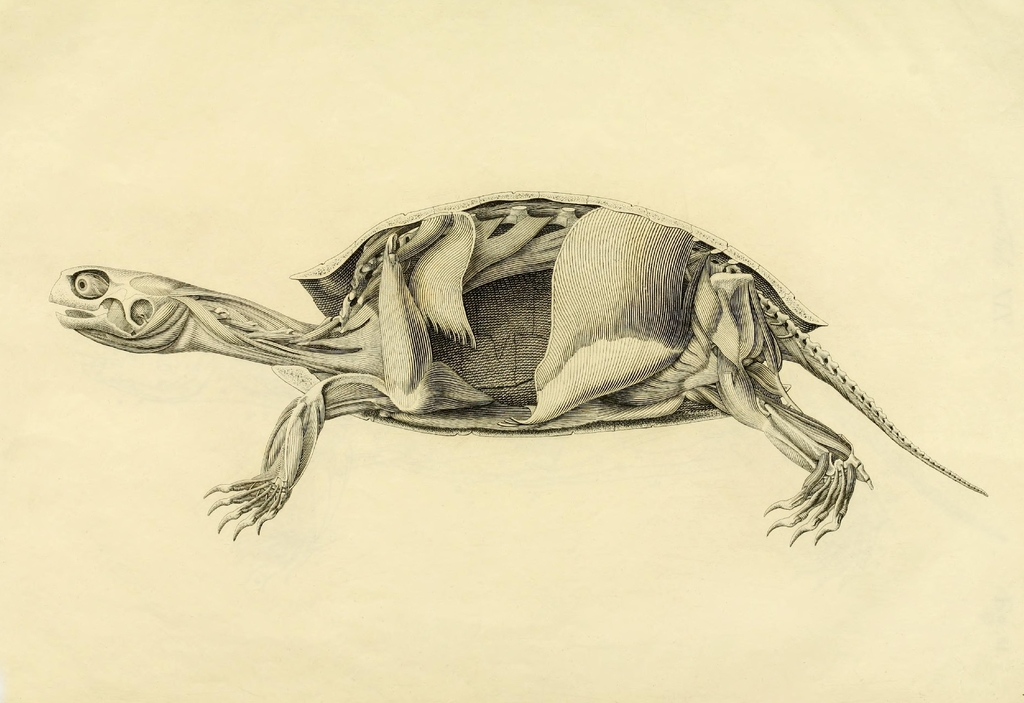Sea turtles: (46, 180, 984, 547)
